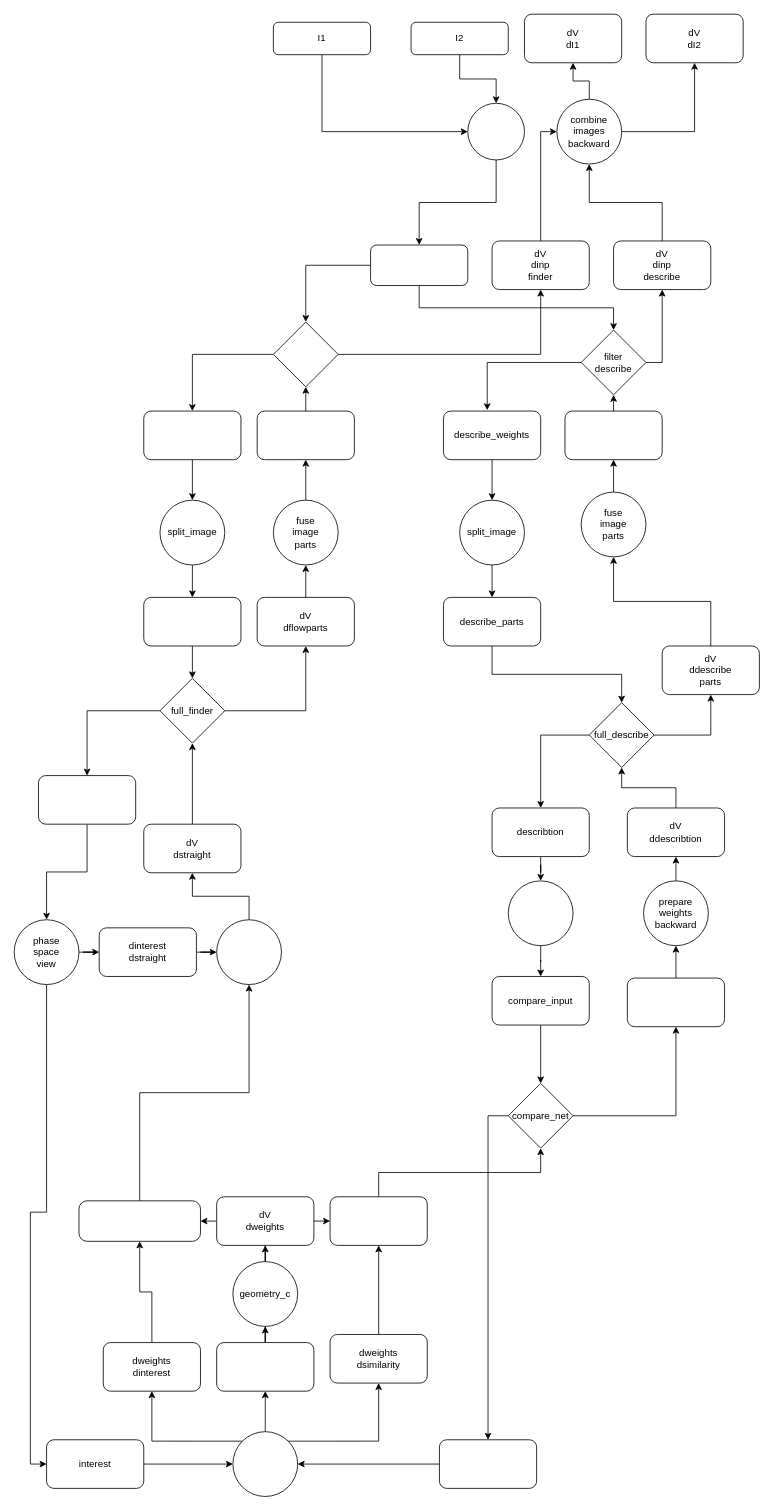
This 774x1511 diagram has some shape labels left out. The shapes that lost their labels are listed below. From the top down, each one's centre as x and y in pixels, then its label:
At pixel 495 131: "combine_images".
At pixel 419 265: "inp".
At pixel 305 354: "filter_finder".
At pixel 192 435: "flow_weights".
At pixel 305 435: "dV dflow weights".
At pixel 613 435: "dV ddescribe_weights".
At pixel 192 621: "flow_parts".
At pixel 87 799: "straight".
At pixel 540 913: "prepare_weigths".
At pixel 248 952: "back phase space".
At pixel 676 1002: "dV dcompare_input".
At pixel 139 1220: "dV dinterest".
At pixel 378 1220: "dV dsim".
At pixel 265 1366: "weights".
At pixel 265 1463: "get weights".
At pixel 488 1463: "similarity".
